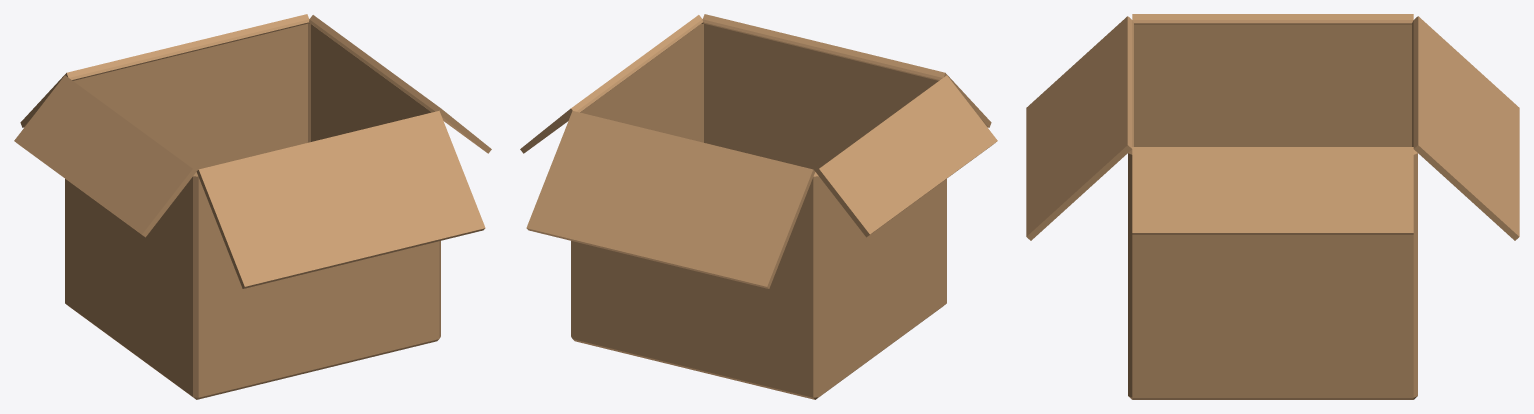
Rendered from CartonOuvert.fbx.
3 renders of one model, left to right at view 1: azimuth 30°, elevation 25°; view 2: azimuth 150°, elevation 25°; view 3: azimuth 270°, elevation 25°, orthographic. The views are drawn at different scales.
Parts seen in each view (by area): view 1: CartonOuvert; view 2: CartonOuvert; view 3: CartonOuvert.
Boxes of the visible parts, left/top/right/bottom form: CartonOuvert: left=14, top=14, right=491, bottom=399; CartonOuvert: left=520, top=14, right=997, bottom=399; CartonOuvert: left=1026, top=14, right=1519, bottom=399.
Bounding box in the file's own units: 60.32 × 38.22 × 67.01.
